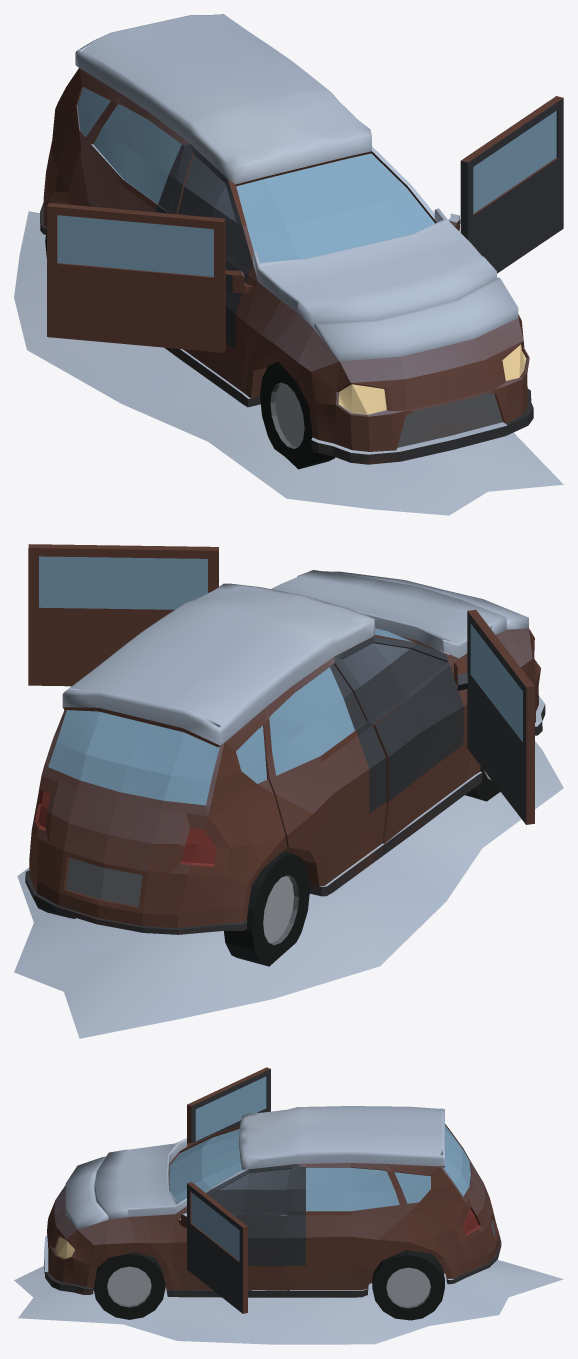
Rendered from suv_doors.glb.
3 views of the same model, one above another, from view 1: azimuth 30°, elevation 25°; view 2: azimuth 150°, elevation 25°; view 3: azimuth 270°, elevation 25° (orthographic). The views are drawn at different scales.
Parts seen in each view (by area): view 1: Body, Glass; view 2: Body, Glass; view 3: Body, Glass.
Part boxes in pixels (<box>): Body: <box>14,14,563,515</box>; Glass: <box>57,87,556,276</box>; Body: <box>14,544,563,1038</box>; Glass: <box>39,556,522,805</box>; Body: <box>14,1067,563,1344</box>; Glass: <box>169,1076,470,1260</box>.
Bounding box in the file's own units: 3.98 × 1.91 × 5.77.
